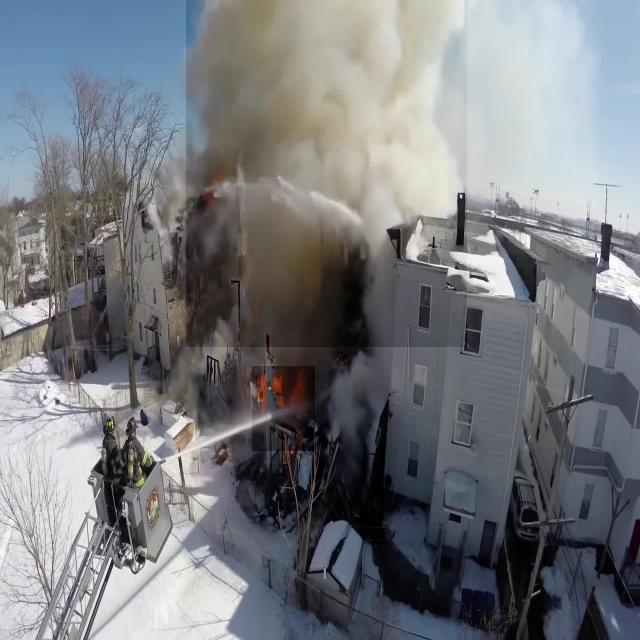Fire: (252, 366, 315, 451)
Smoke: (186, 0, 467, 347)
